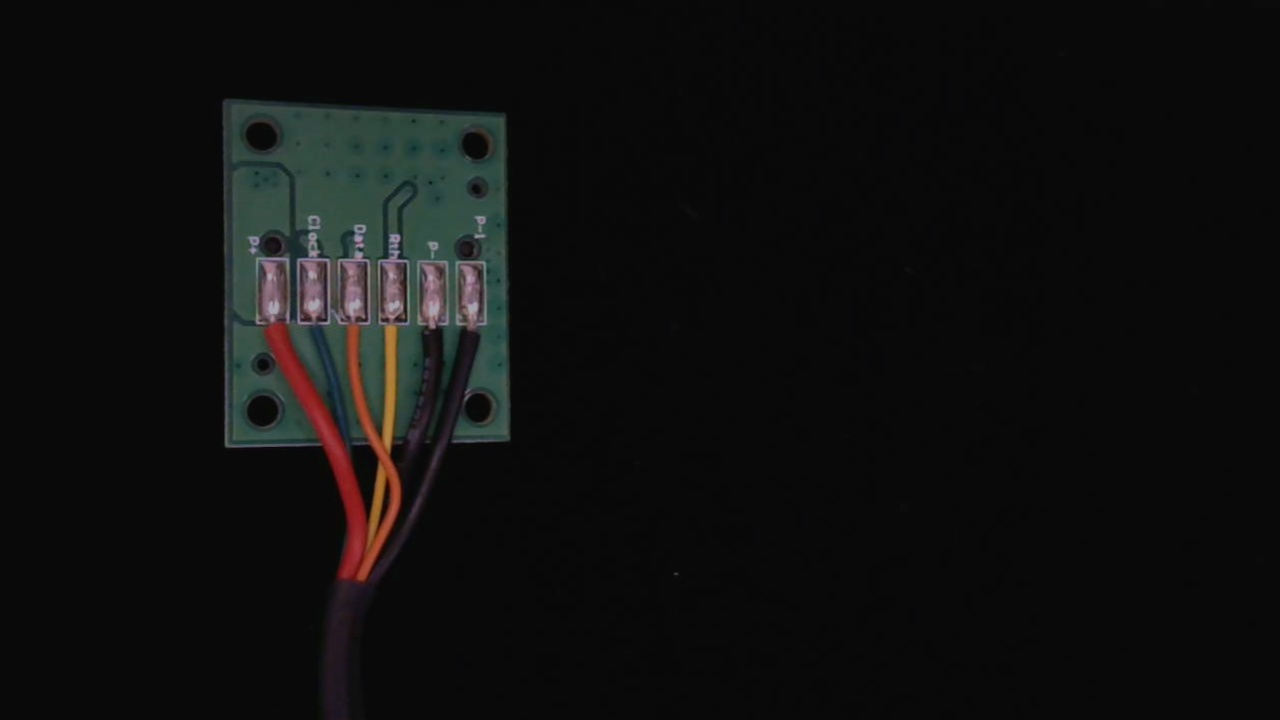Black: (416, 302, 450, 375)
Black1: (456, 304, 489, 371)
Green: (299, 296, 333, 366)
Orange: (338, 301, 370, 373)
Red: (258, 301, 292, 371)
Yellow: (378, 303, 412, 377)
